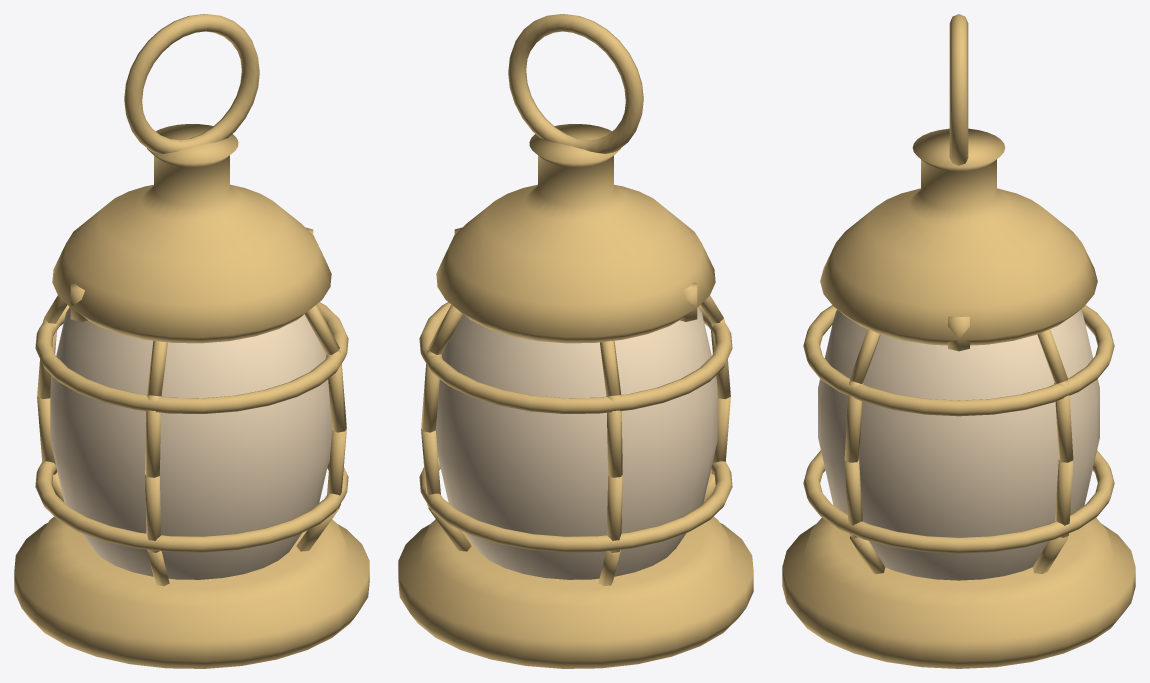
The model's file is ShipLantern.fbx.
3 views of the same model, side by side, from view 1: azimuth 30°, elevation 25°; view 2: azimuth 150°, elevation 25°; view 3: azimuth 270°, elevation 25° (orthographic).
Visible parts, largest first — view 1: Lantern_Brass, Lantern_Glass; view 2: Lantern_Brass, Lantern_Glass; view 3: Lantern_Brass, Lantern_Glass.
Part boxes in pixels (x1,y1,x2,y2): Lantern_Brass: (14, 14, 369, 668); Lantern_Glass: (50, 307, 332, 579); Lantern_Brass: (398, 14, 753, 668); Lantern_Glass: (435, 307, 717, 579); Lantern_Brass: (782, 14, 1135, 668); Lantern_Glass: (818, 309, 1099, 580).
Size of the model in its own units: 0.84 by 1.51 by 0.84.
